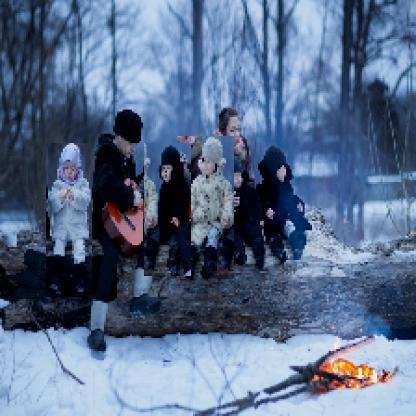child: (178, 137, 236, 281), (47, 144, 94, 294), (257, 145, 316, 264), (145, 144, 193, 278), (221, 155, 275, 272)
